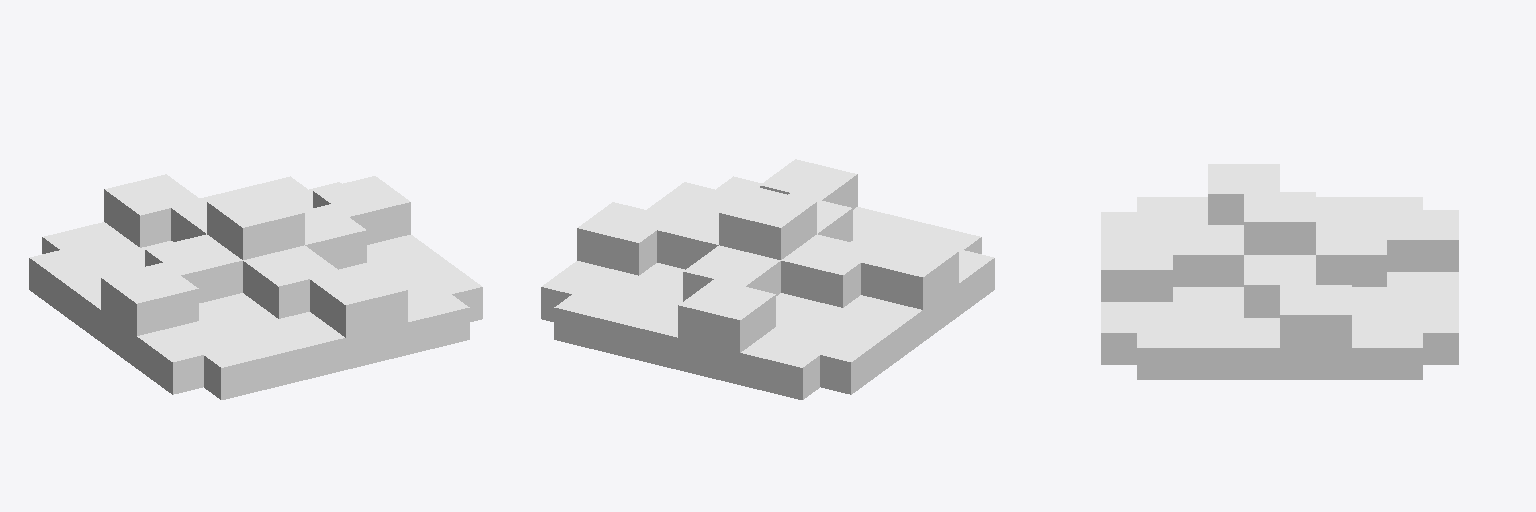
The model's file is Fan.obj.
3 renders of one model, left to right at view 1: azimuth 30°, elevation 25°; view 2: azimuth 150°, elevation 25°; view 3: azimuth 270°, elevation 25°, orthographic.
Bounding box in the file's own units: 10 × 3 × 10.